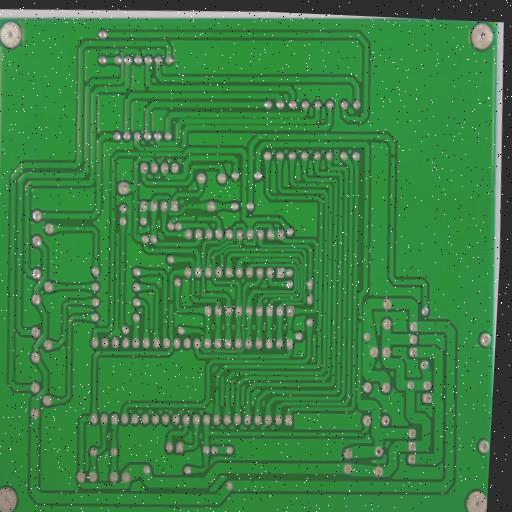open_circuit: (190, 213, 200, 222), (212, 384, 220, 393), (389, 150, 396, 159), (356, 316, 362, 324), (168, 297, 173, 305)
